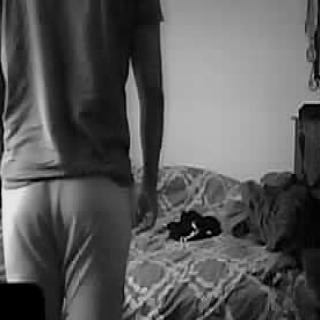White Sweatpants: (0, 169, 135, 319)
